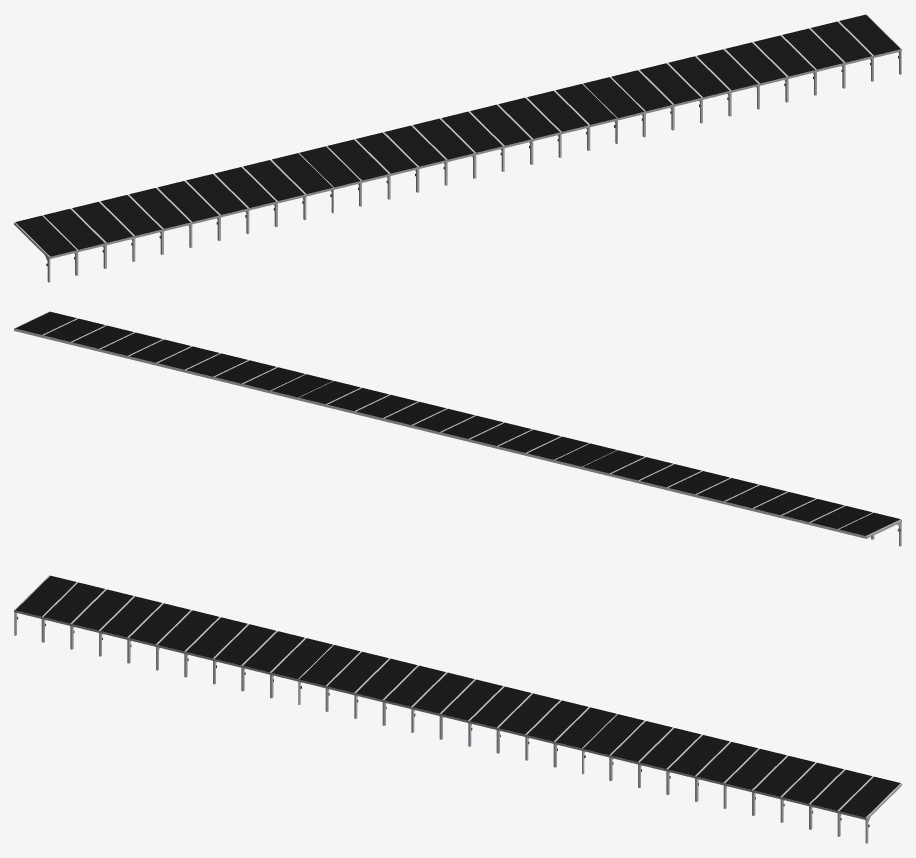
File: Cap_30.glb
3 renders of one model, top to bottom at view 1: azimuth 30°, elevation 25°; view 2: azimuth 150°, elevation 25°; view 3: azimuth 330°, elevation 25°, orthographic.
Visible parts, largest first — view 1: Left.002, Middle.003, Middle.007, Middle.012, Middle.005, Middle.017, Middle.014, Middle.016, Middle.009, Middle.042, Middle.018, Middle.038 (+18 smaller); view 2: Left.002, Middle.010, Middle.016, Middle.042, Middle.011, Middle.014, Middle.040, Middle.002, Middle.004, Middle.007, Middle.017, Middle.044 (+18 smaller); view 3: Middle.045, Middle.003, Middle.043, Middle.041, Middle.005, Middle.007, Middle.002, Middle.039, Middle.011, Middle.015, Middle.044, Middle.010 (+18 smaller).
Part boxes in pixels (x1,y1,x2,y2): Left.002: (14, 215, 77, 282); Middle.003: (382, 125, 446, 192); Middle.007: (497, 97, 560, 164); Middle.012: (99, 195, 163, 261); Middle.005: (440, 111, 503, 178); Middle.017: (241, 160, 305, 226); Middle.014: (156, 181, 220, 247); Middle.016: (213, 167, 277, 233); Middle.009: (554, 84, 617, 150); Middle.042: (752, 35, 816, 102); Middle.018: (270, 153, 334, 220); Middle.038: (638, 63, 702, 130); Left.002: (838, 512, 901, 546); Middle.010: (809, 506, 874, 539); Middle.016: (638, 464, 702, 490); Middle.042: (99, 332, 163, 358); Middle.011: (781, 499, 845, 524); Middle.014: (695, 478, 759, 503); Middle.040: (156, 346, 220, 372); Middle.002: (497, 429, 561, 455); Middle.004: (440, 415, 504, 441); Middle.007: (355, 395, 419, 420); Middle.017: (610, 457, 674, 483); Middle.044: (42, 318, 106, 344); Middle.045: (837, 776, 901, 836); Middle.003: (382, 665, 445, 725); Middle.043: (780, 762, 843, 822); Middle.041: (723, 748, 786, 808); Middle.005: (439, 679, 502, 739); Middle.007: (496, 693, 559, 753); Middle.002: (354, 658, 417, 718); Middle.039: (666, 734, 729, 794); Middle.011: (70, 589, 133, 649); Middle.015: (184, 617, 247, 677); Middle.044: (809, 769, 872, 829); Middle.010: (41, 582, 104, 642).
Bounding box in the file's own units: 79.53 × 3.11 × 5.7.
5 materials, 5 textured.
